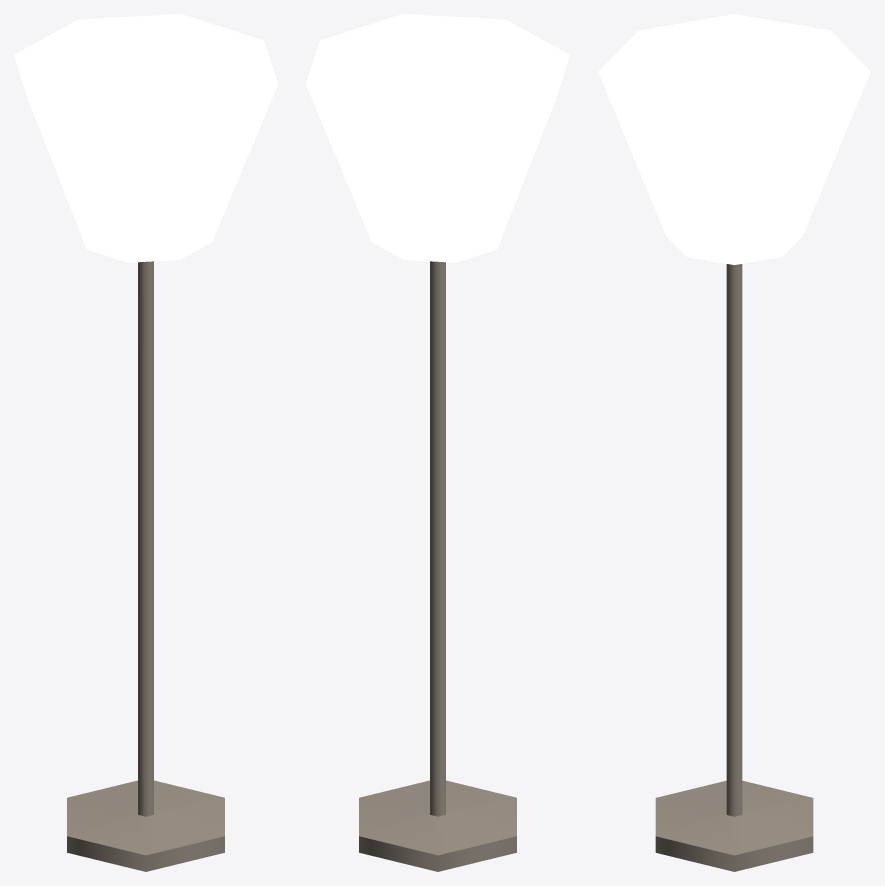
The model's file is lamp_floor.glb.
3 renders of one model, left to right at view 1: azimuth 30°, elevation 25°; view 2: azimuth 150°, elevation 25°; view 3: azimuth 270°, elevation 25°, orthographic.
Visible parts, largest first — view 1: Lamp; view 2: Lamp; view 3: Lamp.
Boxes of the visible parts, box(x1,y1,x2,y2) form: Lamp: box(14, 14, 277, 871); Lamp: box(306, 14, 569, 871); Lamp: box(598, 14, 870, 871).
Size of the model in its own units: 0.6 by 1.85 by 0.6.
